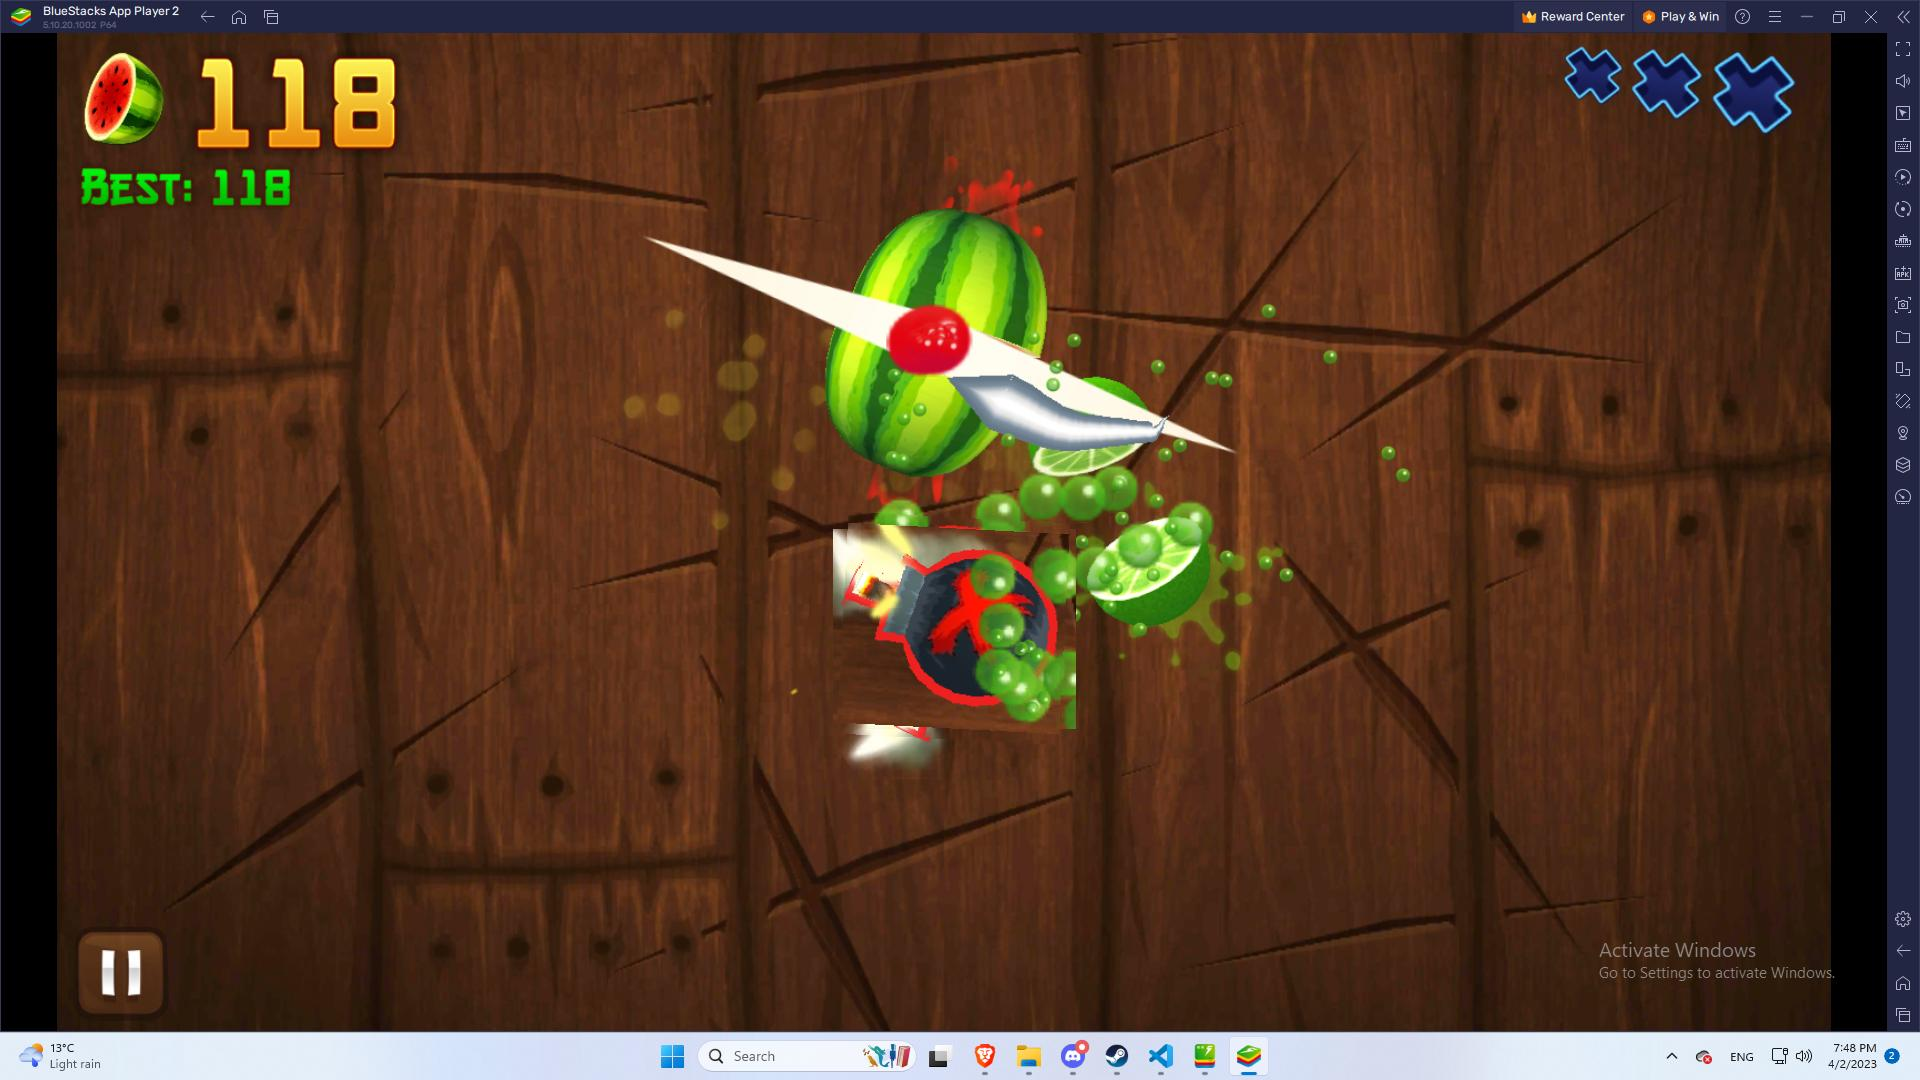bomb: (840, 516, 1068, 742)
